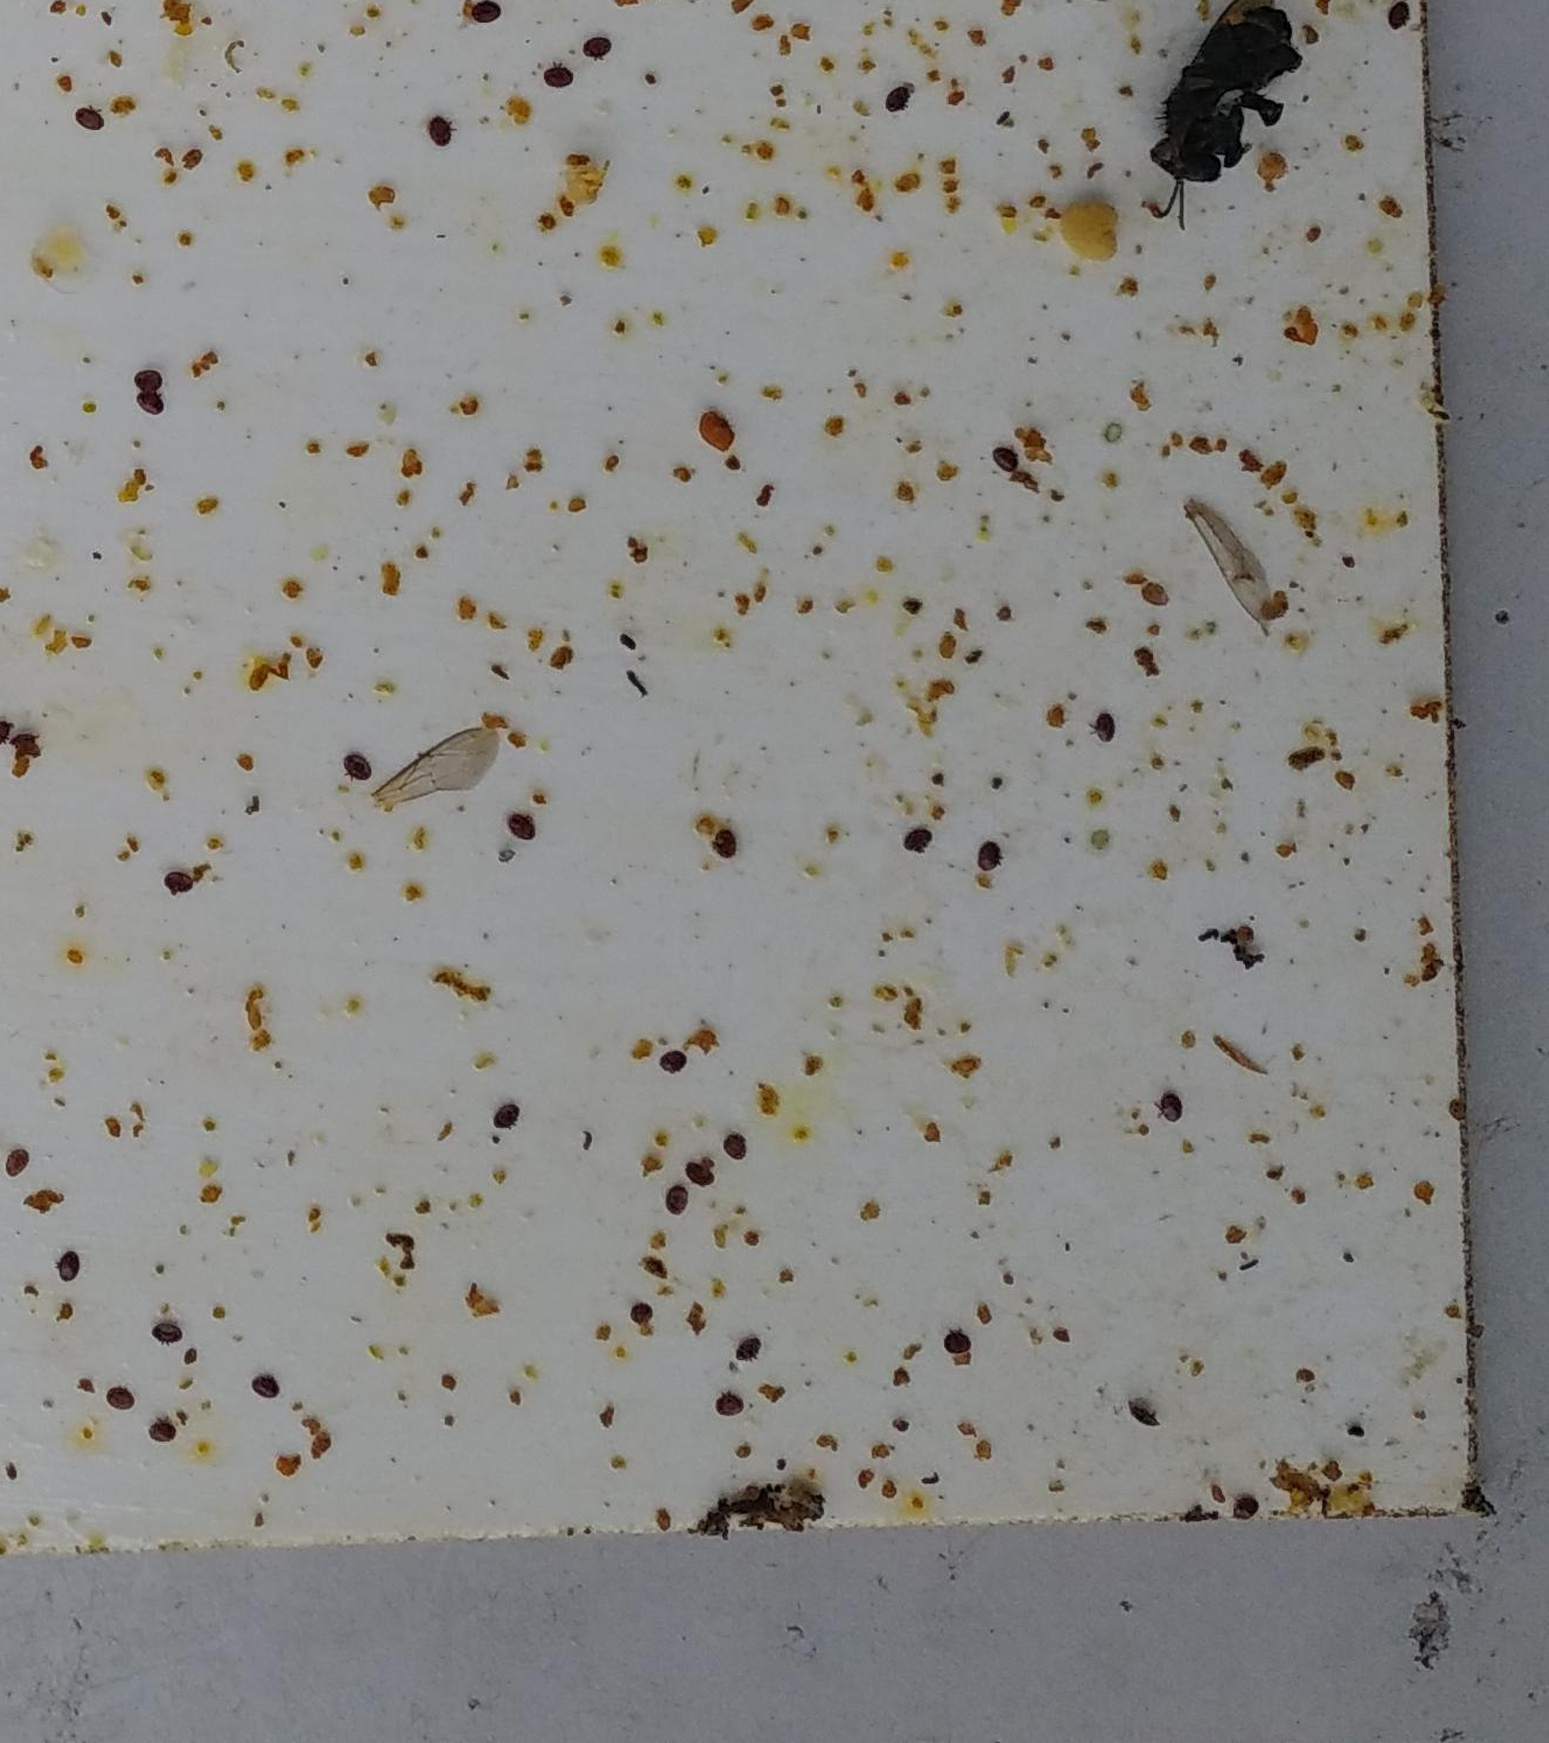Varroa: (129, 354, 169, 396), (129, 383, 169, 425), (6, 718, 46, 759), (1124, 1395, 1165, 1437), (535, 63, 573, 103), (490, 1103, 531, 1141), (145, 1422, 184, 1457), (73, 102, 108, 139), (1153, 1094, 1187, 1129), (655, 1046, 689, 1081), (248, 1372, 281, 1407), (51, 1253, 84, 1287), (148, 1318, 181, 1353), (730, 1330, 763, 1365), (878, 81, 911, 115), (1229, 1492, 1262, 1526), (105, 1384, 138, 1419), (582, 31, 615, 64), (709, 1389, 742, 1422), (658, 1187, 691, 1220), (625, 1301, 658, 1333), (163, 866, 194, 898), (1136, 576, 1168, 608), (129, 371, 160, 404), (341, 746, 372, 777), (680, 1160, 712, 1191), (712, 827, 742, 858), (991, 448, 1023, 478), (973, 839, 1003, 870), (428, 114, 458, 145), (1091, 710, 1121, 741), (906, 827, 936, 857), (724, 1132, 754, 1162), (504, 813, 534, 843), (943, 1329, 970, 1357)
